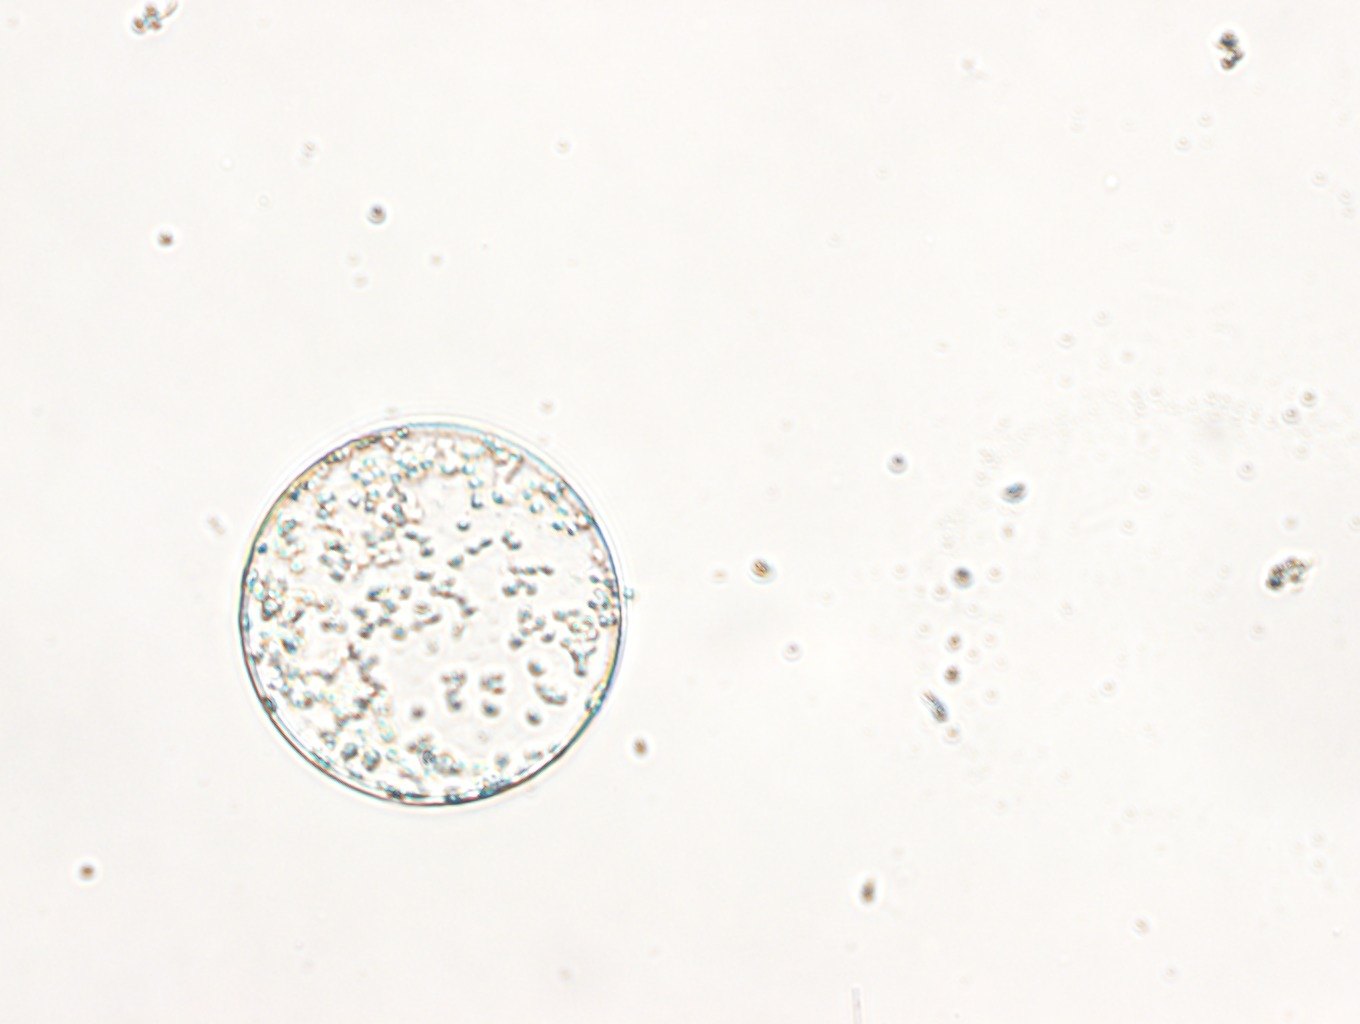coscinodiscus: (228, 412, 631, 817)
